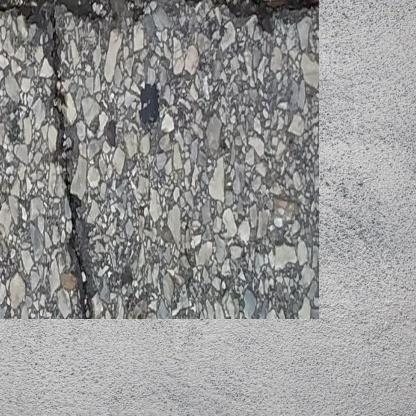Cracks: (0, 0, 107, 295), (161, 0, 295, 19)
